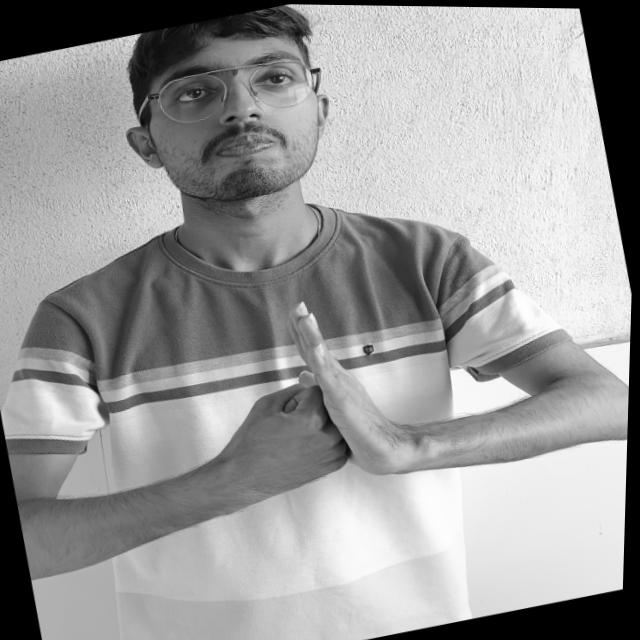Well Done: (123, 251, 514, 562)
